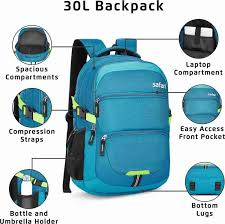backpack: (63, 38, 171, 196)
